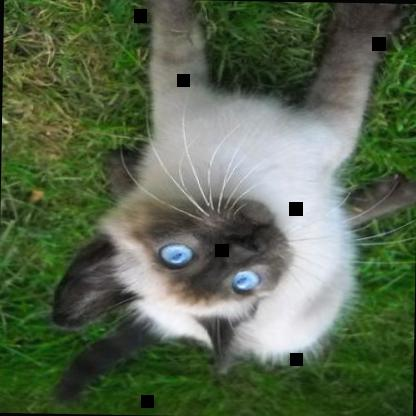cat: (51, 0, 415, 404)
